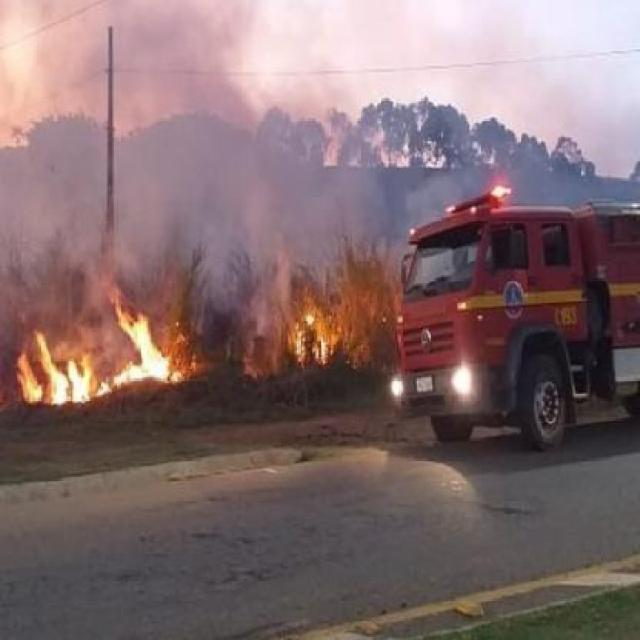Fire: (18, 325, 108, 403), (111, 297, 180, 385), (296, 316, 330, 364)
